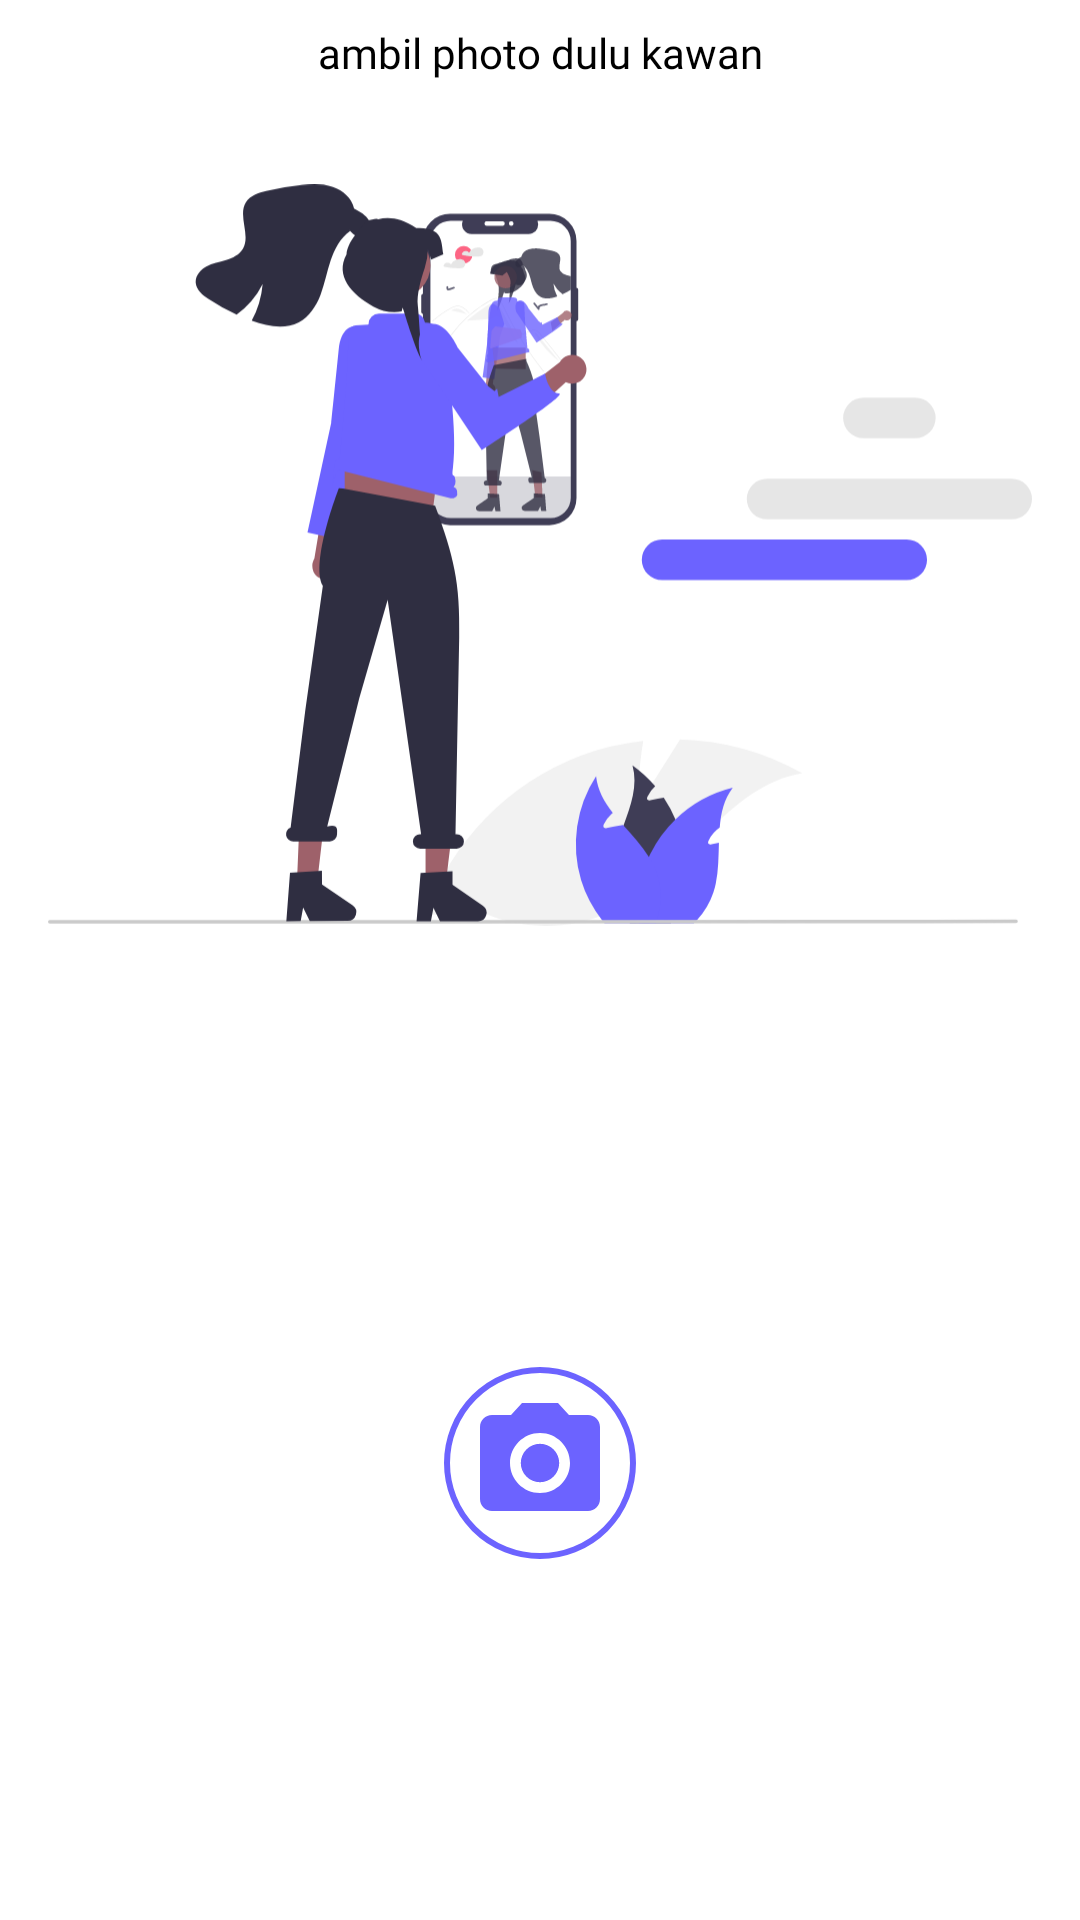

Screen size 1080 × 1920. Icon name, then its box in pixels as bbox(x1, y1, x2, y2):
camera: bbox(444, 1367, 636, 1559)
